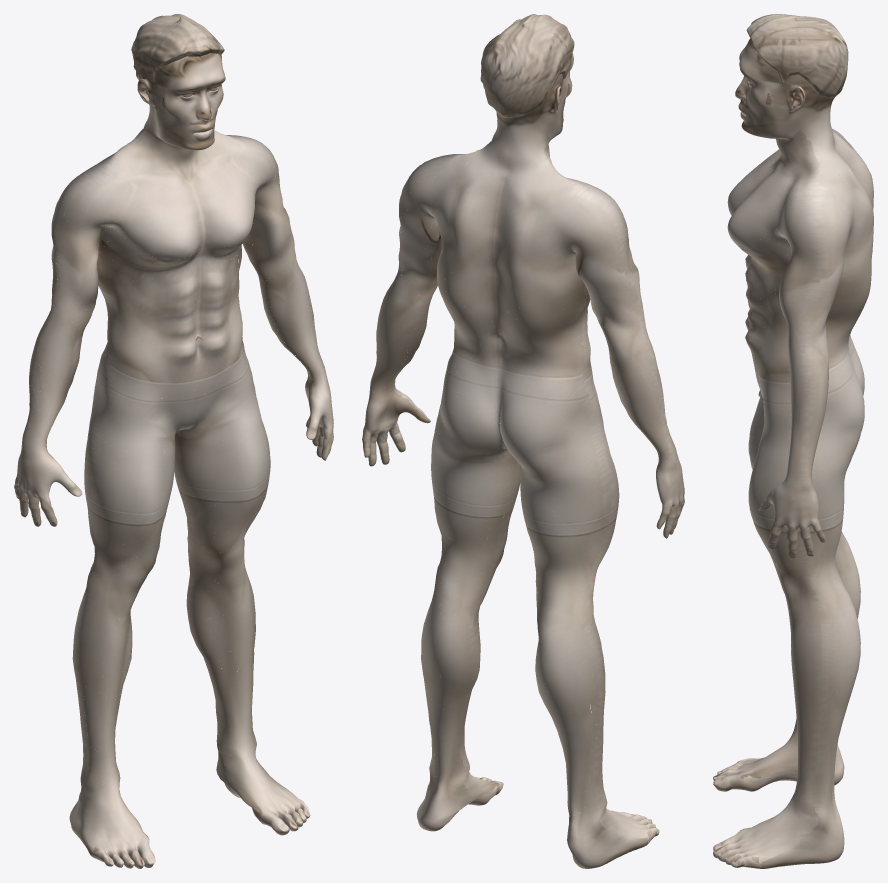
File: male.glb
The picture shows the model from 3 angles, left to right: view 1: azimuth 30°, elevation 25°; view 2: azimuth 150°, elevation 25°; view 3: azimuth 270°, elevation 25°; orthographic projection.
Visible parts, largest first — view 1: fitcheck_body, muscle__obliques__R, muscle__vastus_lateralis__R, muscle__abs__R, muscle__rectus_femoris__R, portrait_hair, muscle__forearm_flexors__L, muscle__rectus_femoris__L, muscle__chest_middle__R, muscle__soleus__L, muscle__abs__L, muscle__forearm_flexors__R (+18 smaller); view 2: fitcheck_body, portrait_hair, muscle__lats__R, muscle__gluteus_maximus__L, muscle__gluteus_maximus__R, muscle__hamstrings_medial__L, muscle__forearm_extensors__R, muscle__hamstrings_lateral__R, muscle__gastrocnemius_medial__L, muscle__gastrocnemius_lateral__R, muscle__forearm_extensors__L, muscle__hamstrings_medial__R (+30 smaller); view 3: fitcheck_body, portrait_hair, muscle__vastus_lateralis__L, muscle__obliques__L, muscle__lats__L, muscle__hamstrings_lateral__L, muscle__brachioradialis__L, muscle__gluteus_medius__L, muscle__gastrocnemius_lateral__L, muscle__soleus__L, muscle__abs__L, muscle__chest_middle__L (+21 smaller).
Part boxes in pixels (x1,y1,x2,y2): fitcheck_body: (14,53,333,868); muscle__obliques__R: (102,290,167,400); muscle__vastus_lateralis__R: (81,439,135,562); muscle__abs__R: (159,271,195,399); muscle__rectus_femoris__R: (121,432,163,558); portrait_hair: (131,14,224,82); muscle__forearm_flexors__L: (265,262,324,382); muscle__rectus_femoris__L: (222,414,268,533); muscle__chest_middle__R: (130,201,200,259); muscle__soleus__L: (209,646,254,756); muscle__abs__L: (203,264,230,395); muscle__forearm_flexors__R: (36,307,92,449); fitcheck_body: (362,53,684,868); portrait_hair: (480,14,574,118); muscle__lats__R: (506,273,585,395); muscle__gluteus_maximus__L: (431,396,505,482); muscle__gluteus_maximus__R: (500,405,594,507); muscle__hamstrings_medial__L: (446,475,497,588); muscle__forearm_extensors__R: (604,326,669,463); muscle__hamstrings_lateral__R: (550,492,596,615); muscle__gastrocnemius_medial__L: (441,598,483,709); muscle__gastrocnemius_lateral__R: (544,637,595,738); muscle__forearm_extensors__L: (371,273,419,393); muscle__hamstrings_medial__R: (521,482,562,608); fitcheck_body: (713,38,871,868); portrait_hair: (746,14,848,98); muscle__vastus_lateralis__L: (762,445,822,572); muscle__obliques__L: (758,299,790,399); muscle__lats__L: (825,280,871,372); muscle__hamstrings_lateral__L: (814,491,849,597); muscle__brachioradialis__L: (796,325,822,423); muscle__gluteus_medius__L: (821,384,862,434); muscle__gastrocnemius_lateral__L: (832,617,860,723); muscle__soleus__L: (793,705,842,800); muscle__abs__L: (745,257,765,384); muscle__chest_middle__L: (727,189,775,249).
Bounding box in the file's own units: 0.7238 × 1.81 × 0.3271.
Materials: 1 (1 with a texture image).
